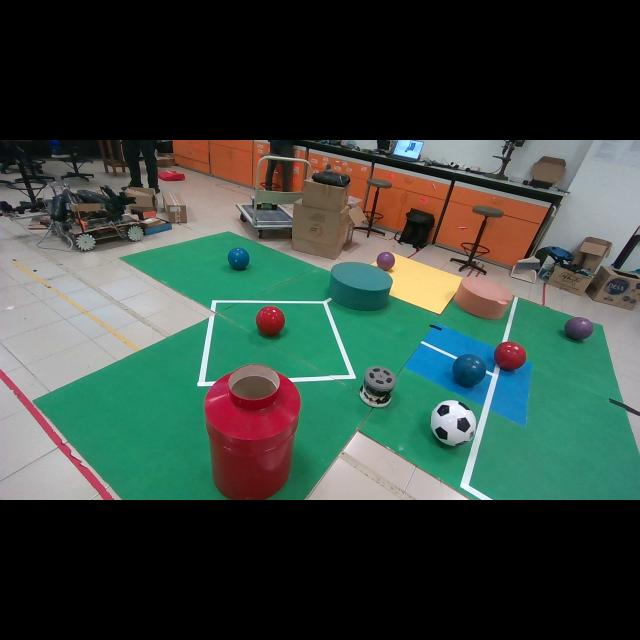B: (452, 354, 486, 387), (228, 248, 250, 270)
P: (564, 318, 594, 341), (376, 251, 395, 271)
R: (494, 341, 526, 371), (256, 306, 285, 336)
